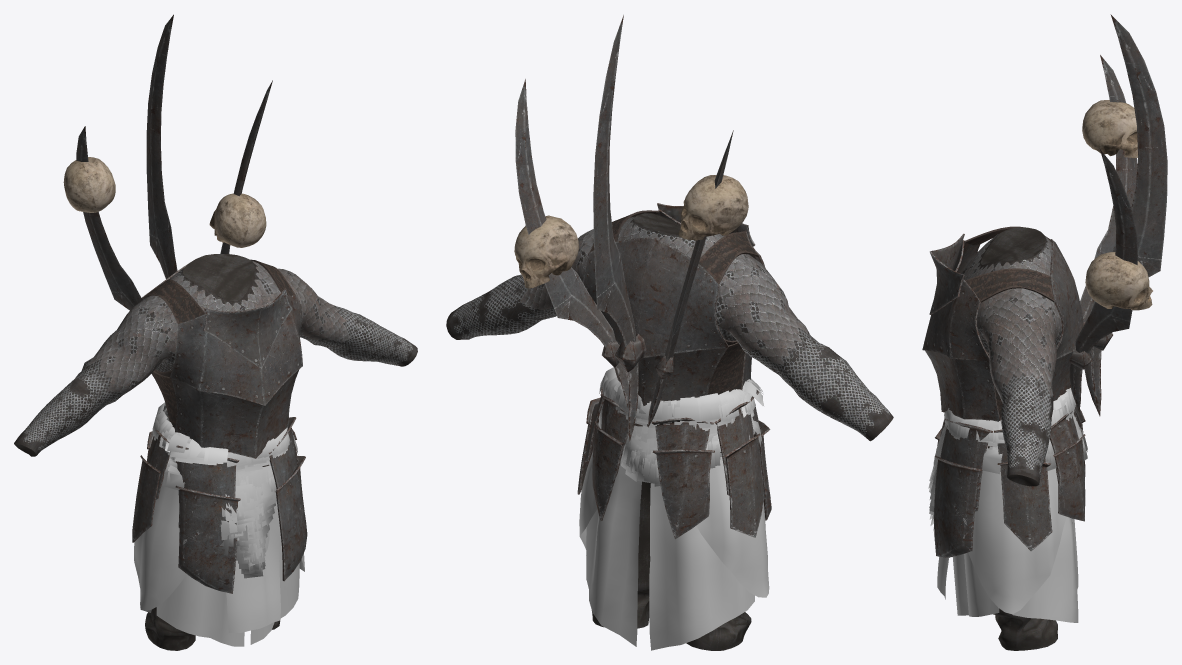
Rendered from sk_gb_uruk_chest_lord_d.fbx.
3 renders of one model, left to right at view 1: azimuth 30°, elevation 25°; view 2: azimuth 150°, elevation 25°; view 3: azimuth 270°, elevation 25°, orthographic. The views are drawn at different scales.
Visible parts, largest first — view 1: sk_gb_uruk_chest_lord_d.base.0, sk_gb_uruk_chest_lord_d.base.1, sk_gb_uruk_chest_lord_d.skirt.1, sk_gb_uruk_chest_lord_d.base.3, sk_gb_uruk_chest_lord_d.base.2, sk_gb_uruk_chest_lord_d.skirt.2; view 2: sk_gb_uruk_chest_lord_d.base.0, sk_gb_uruk_chest_lord_d.skirt.1, sk_gb_uruk_chest_lord_d.base.2, sk_gb_uruk_chest_lord_d.base.1, sk_gb_uruk_chest_lord_d.base.3, sk_gb_uruk_chest_lord_d.skirt.2; view 3: sk_gb_uruk_chest_lord_d.base.2, sk_gb_uruk_chest_lord_d.base.0, sk_gb_uruk_chest_lord_d.base.1, sk_gb_uruk_chest_lord_d.skirt.1, sk_gb_uruk_chest_lord_d.base.3, sk_gb_uruk_chest_lord_d.skirt.2.
Part boxes in pixels (<box>): sk_gb_uruk_chest_lord_d.base.0: <box>14,254,417,650</box>; sk_gb_uruk_chest_lord_d.base.1: <box>140,256,302,458</box>; sk_gb_uruk_chest_lord_d.skirt.1: <box>134,481,304,646</box>; sk_gb_uruk_chest_lord_d.base.3: <box>132,417,307,593</box>; sk_gb_uruk_chest_lord_d.base.2: <box>63,14,272,377</box>; sk_gb_uruk_chest_lord_d.skirt.2: <box>152,402,298,578</box>; sk_gb_uruk_chest_lord_d.base.0: <box>446,213,893,650</box>; sk_gb_uruk_chest_lord_d.skirt.1: <box>579,451,769,650</box>; sk_gb_uruk_chest_lord_d.base.2: <box>514,15,748,441</box>; sk_gb_uruk_chest_lord_d.base.1: <box>582,203,765,405</box>; sk_gb_uruk_chest_lord_d.base.3: <box>577,382,771,539</box>; sk_gb_uruk_chest_lord_d.skirt.2: <box>598,367,764,486</box>; sk_gb_uruk_chest_lord_d.base.2: <box>987,14,1167,416</box>; sk_gb_uruk_chest_lord_d.base.0: <box>961,227,1062,650</box>; sk_gb_uruk_chest_lord_d.base.1: <box>922,226,1083,421</box>; sk_gb_uruk_chest_lord_d.skirt.1: <box>937,468,1078,622</box>; sk_gb_uruk_chest_lord_d.base.3: <box>933,405,1085,557</box>; sk_gb_uruk_chest_lord_d.skirt.2: <box>928,388,1087,531</box>.
Bounding box in the file's own units: 1.35 × 0.6973 × 1.91.
